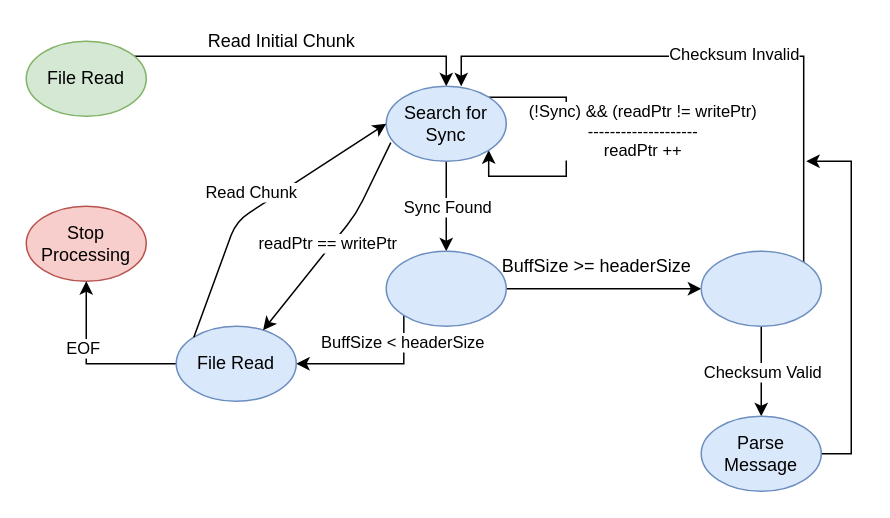
This 890x518 diagram has some shape labels left out. Here are the shapes that lost their labels. From the top down, the centre of each, then its label:
At point (445, 288): "Check BuffSize".
At point (760, 288): "parse header".
